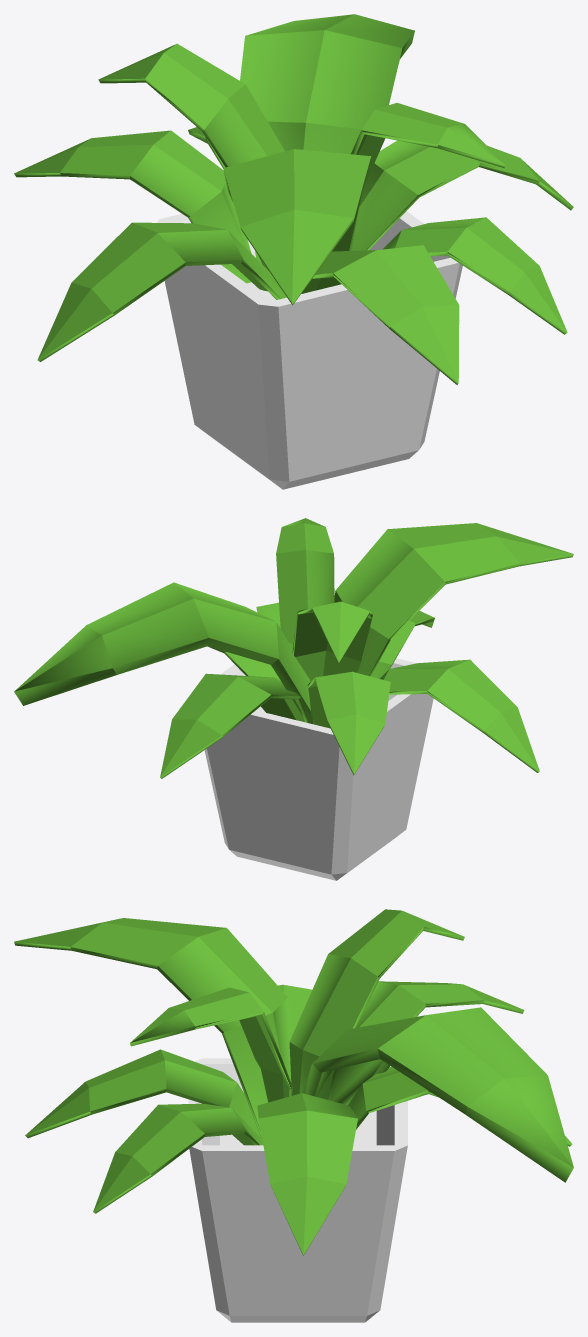
File: SM_plant_01.fbx
3 views of the same model, one above another, from view 1: azimuth 30°, elevation 25°; view 2: azimuth 150°, elevation 25°; view 3: azimuth 270°, elevation 25° (orthographic). The views are drawn at different scales.
Visible parts, largest first — view 1: SM_Plant_01, SM_Plant_pot_01; view 2: SM_Plant_01, SM_Plant_pot_01; view 3: SM_Plant_01, SM_Plant_pot_01.
Boxes of the visible parts, x1,y1,x2,y2 form: SM_Plant_01: [14, 14, 573, 384]; SM_Plant_pot_01: [157, 211, 462, 489]; SM_Plant_01: [14, 518, 573, 778]; SM_Plant_pot_01: [204, 658, 433, 880]; SM_Plant_01: [14, 909, 573, 1255]; SM_Plant_pot_01: [188, 1058, 407, 1322].
Size of the model in its own units: 193 by 127 by 187.
